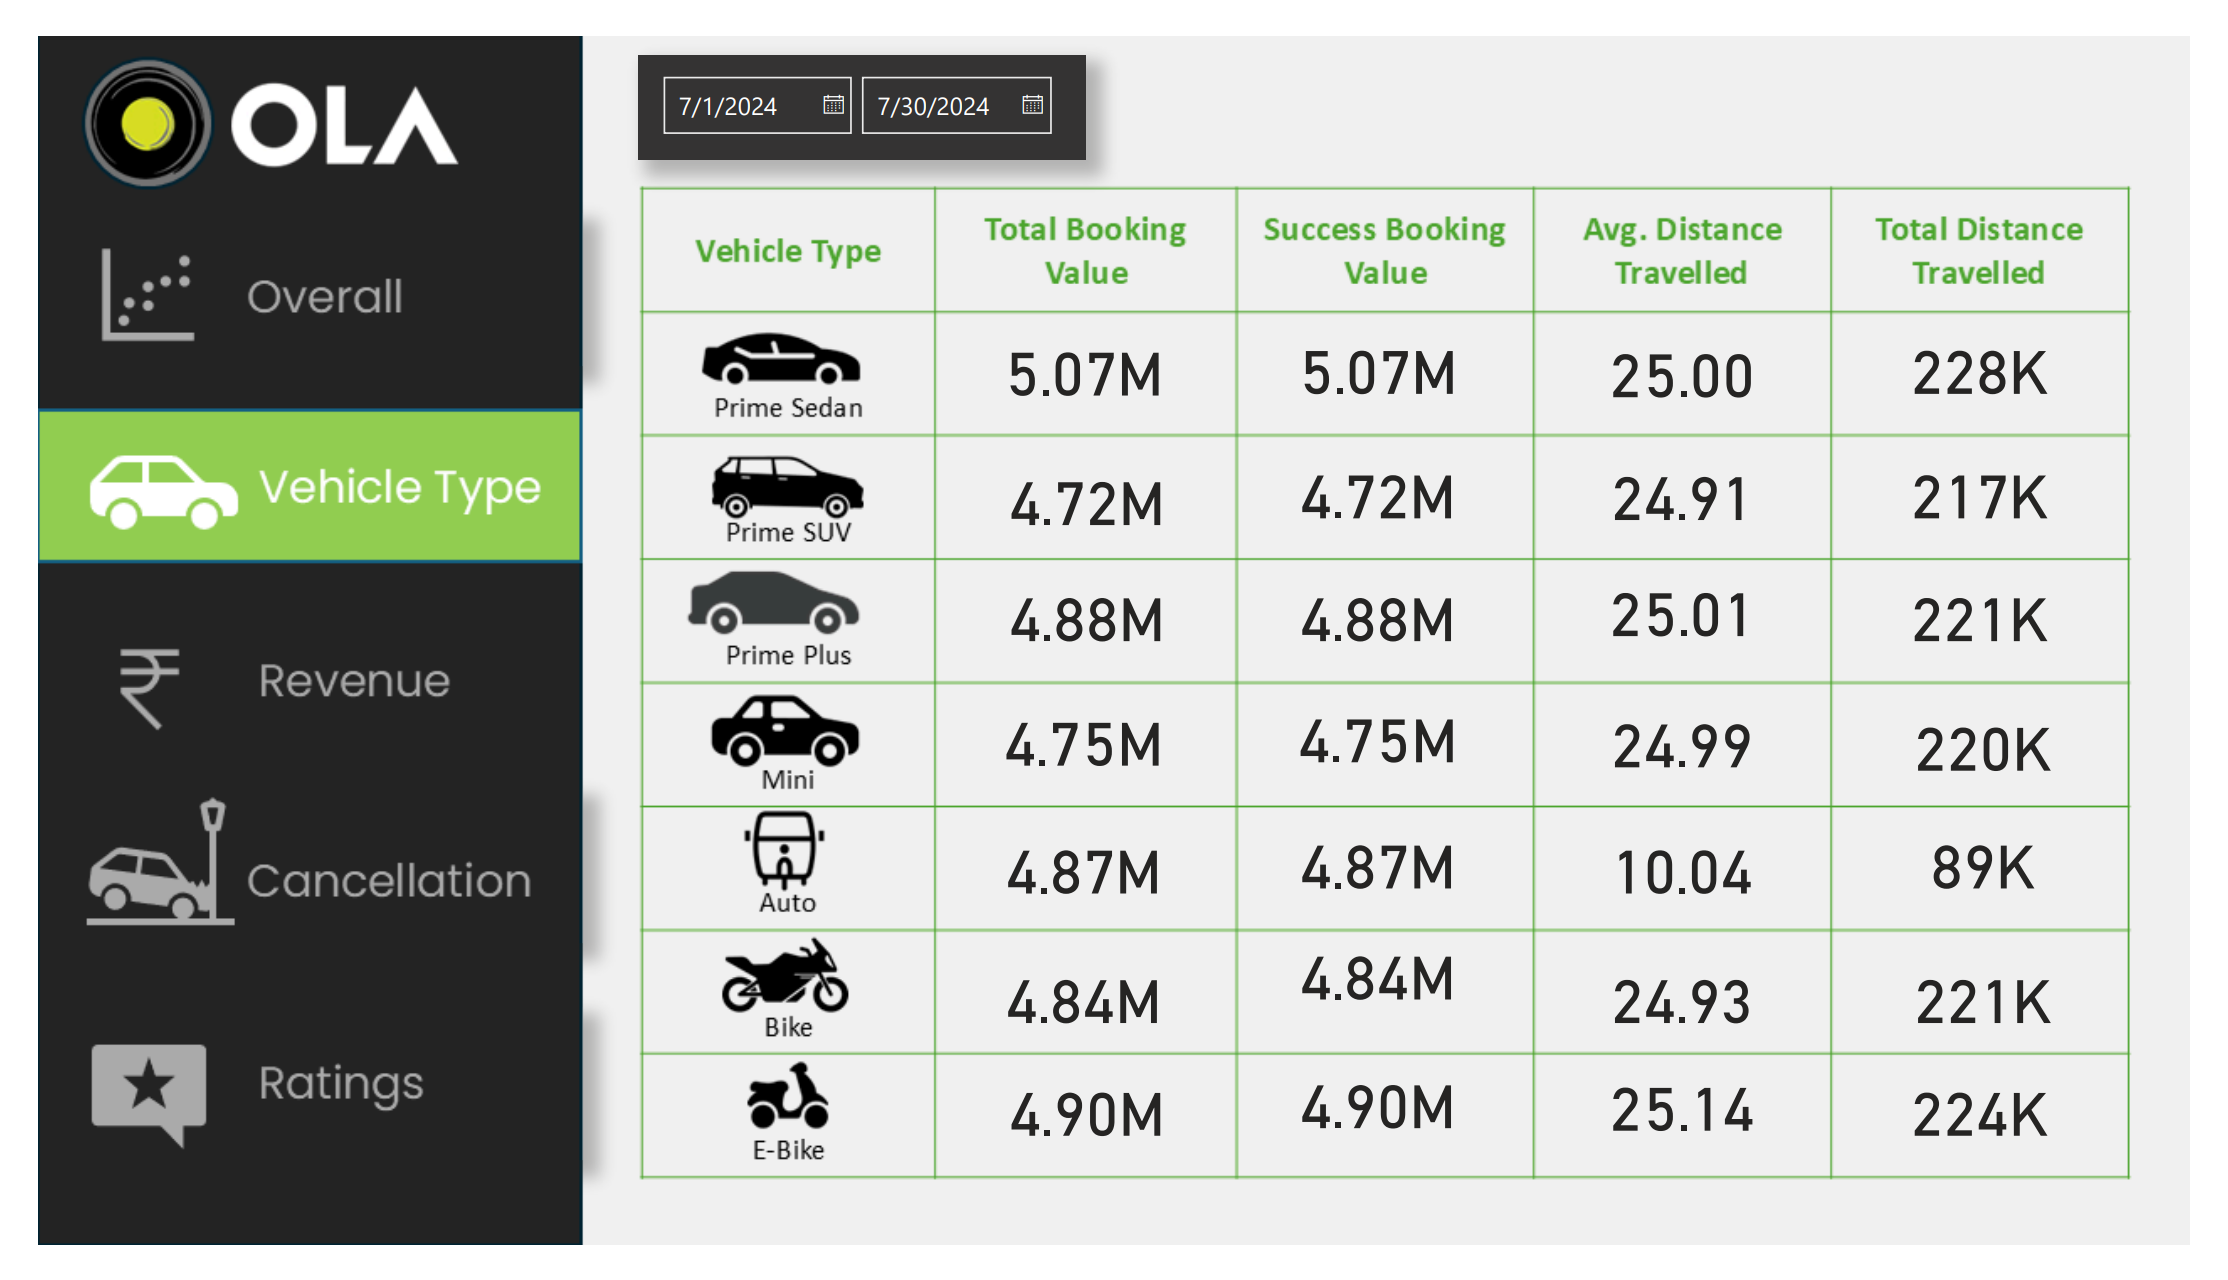

Layout of this report page (visuals, bound fields, positions):
{"tool":"powerbi","page":{"name":"Vehicle Type","canvas":[1280,720],"ordinal":1},"visuals":[{"type":"actionButton","box":[0,340.6,325,91.3],"z":0},{"type":"actionButton","box":[0,576.6,323.9,91.3],"z":1000},{"type":"actionButton","box":[0,447.4,323.9,91.3],"z":2000},{"type":"actionButton","box":[0,104.6,323.9,91.3],"z":3000},{"type":"card","fields":{"Values":["Sum(July.Booking_Value)"]},"box":[540.5,171.5,163.8,52.1],"z":4000},{"type":"card","fields":{"Values":["Sum(July.Booking_Value)"]},"box":[542,246.5,163.8,55.1],"z":5000},{"type":"card","fields":{"Values":["Sum(July.Booking_Value)"]},"box":[542,312.3,163.8,62.8],"z":6000},{"type":"card","fields":{"Values":["Sum(July.Booking_Value)"]},"box":[540.5,385.8,163.8,62.8],"z":7000},{"type":"card","fields":{"Values":["Sum(July.Booking_Value)"]},"box":[540.5,462.4,163.8,62.8],"z":8000},{"type":"card","fields":{"Values":["Sum(July.Booking_Value)"]},"box":[540.5,538.9,163.8,62.8],"z":9000},{"type":"card","fields":{"Values":["Sum(July.Booking_Value)"]},"box":[542,606.3,163.8,62.8],"z":10000},{"type":"card","fields":{"Values":["Sum(July.Booking_Value)"]},"box":[715,165.4,163.8,62.8],"z":11000},{"type":"card","fields":{"Values":["Sum(July.Booking_Value)"]},"box":[715,238.9,163.8,62.8],"z":12000},{"type":"card","fields":{"Values":["Sum(July.Booking_Value)"]},"box":[715,601.7,163.8,62.8],"z":13000},{"type":"card","fields":{"Values":["Sum(July.Booking_Value)"]},"box":[715,525.2,163.8,62.8],"z":14000},{"type":"card","fields":{"Values":["Sum(July.Booking_Value)"]},"box":[715,459.3,163.8,62.8],"z":15000},{"type":"card","fields":{"Values":["Sum(July.Booking_Value)"]},"box":[715,384.3,163.8,62.8],"z":16000},{"type":"card","fields":{"Values":["Sum(July.Booking_Value)"]},"box":[715,312.3,163.8,62.8],"z":17000},{"type":"card","fields":{"Values":["Avg(July.Ride_Distance)"]},"box":[895.7,538.9,163.8,62.8],"z":18000},{"type":"card","fields":{"Values":["Avg(July.Ride_Distance)"]},"box":[895.7,462.4,163.8,62.8],"z":19000},{"type":"card","fields":{"Values":["Avg(July.Ride_Distance)"]},"box":[895.7,387.4,163.8,62.8],"z":20000},{"type":"card","fields":{"Values":["Avg(July.Ride_Distance)"]},"box":[895.7,166.9,163.8,62.8],"z":21000},{"type":"card","fields":{"Values":["Avg(July.Ride_Distance)"]},"box":[895.7,309.3,163.8,62.8],"z":22000},{"type":"card","fields":{"Values":["Avg(July.Ride_Distance)"]},"box":[895.7,240.4,163.8,62.8],"z":23000},{"type":"card","fields":{"Values":["Avg(July.Ride_Distance)"]},"box":[895.7,603.3,163.8,62.8],"z":24000},{"type":"card","fields":{"Values":["Sum(July.Ride_Distance)"]},"box":[1074.8,538.9,163.8,62.8],"z":25000},{"type":"card","fields":{"Values":["Sum(July.Ride_Distance)"]},"box":[1074.8,459.3,163.8,62.8],"z":26000},{"type":"card","fields":{"Values":["Sum(July.Ride_Distance)"]},"box":[1074.8,388.9,163.8,62.8],"z":27000},{"type":"card","fields":{"Values":["Sum(July.Ride_Distance)"]},"box":[1073.3,312.3,163.8,62.8],"z":28000},{"type":"card","fields":{"Values":["Sum(July.Ride_Distance)"]},"box":[1073.3,238.9,163.8,62.8],"z":29000},{"type":"card","fields":{"Values":["Sum(July.Ride_Distance)"]},"box":[1073.3,165.4,163.8,62.8],"z":30000},{"type":"card","fields":{"Values":["Sum(July.Ride_Distance)"]},"box":[1073.3,606.3,163.8,62.8],"z":31000},{"type":"slicer","title":"Date","fields":{"Values":["July.Date"]},"box":[356.7,10.7,266.4,62.8],"z":31001}]}

Visuals, with their boxes on the page's 1280x720 design canvas (x1, y1, x2, y2). These are canvas units, not pixel positions in the 2228x1280 screenshot, which may show the page scaled, cropped or inside an application window:
actionButton: 0,341,325,432
actionButton: 0,577,324,668
actionButton: 0,447,324,539
actionButton: 0,105,324,196
card - Sum(July.Booking_Value): 540,172,704,224
card - Sum(July.Booking_Value): 542,246,706,302
card - Sum(July.Booking_Value): 542,312,706,375
card - Sum(July.Booking_Value): 540,386,704,449
card - Sum(July.Booking_Value): 540,462,704,525
card - Sum(July.Booking_Value): 540,539,704,602
card - Sum(July.Booking_Value): 542,606,706,669
card - Sum(July.Booking_Value): 715,165,879,228
card - Sum(July.Booking_Value): 715,239,879,302
card - Sum(July.Booking_Value): 715,602,879,664
card - Sum(July.Booking_Value): 715,525,879,588
card - Sum(July.Booking_Value): 715,459,879,522
card - Sum(July.Booking_Value): 715,384,879,447
card - Sum(July.Booking_Value): 715,312,879,375
card - Avg(July.Ride_Distance): 896,539,1060,602
card - Avg(July.Ride_Distance): 896,462,1060,525
card - Avg(July.Ride_Distance): 896,387,1060,450
card - Avg(July.Ride_Distance): 896,167,1060,230
card - Avg(July.Ride_Distance): 896,309,1060,372
card - Avg(July.Ride_Distance): 896,240,1060,303
card - Avg(July.Ride_Distance): 896,603,1060,666
card - Sum(July.Ride_Distance): 1075,539,1239,602
card - Sum(July.Ride_Distance): 1075,459,1239,522
card - Sum(July.Ride_Distance): 1075,389,1239,452
card - Sum(July.Ride_Distance): 1073,312,1237,375
card - Sum(July.Ride_Distance): 1073,239,1237,302
card - Sum(July.Ride_Distance): 1073,165,1237,228
card - Sum(July.Ride_Distance): 1073,606,1237,669
"Date" slicer: 357,11,623,74
